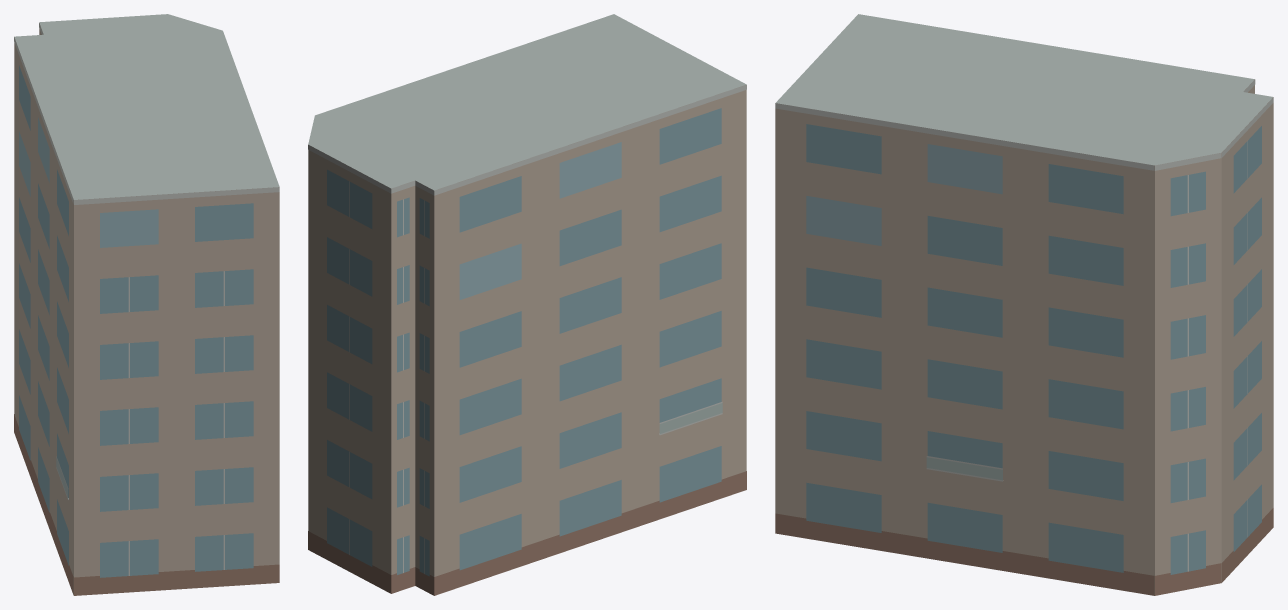
The model's file is survey-upis-32525001.glb.
The picture shows the model from 3 angles, left to right: view 1: azimuth 30°, elevation 25°; view 2: azimuth 150°, elevation 25°; view 3: azimuth 270°, elevation 25°; orthographic projection. The views are drawn at different scales.
Parts seen in each view (by area): view 1: survey-upis-32525001.tmp; view 2: survey-upis-32525001.tmp; view 3: survey-upis-32525001.tmp.
Part boxes in pixels (x1,y1,x2,y2): survey-upis-32525001.tmp: (14,14,279,595); survey-upis-32525001.tmp: (308,14,746,595); survey-upis-32525001.tmp: (775,14,1273,595).
Bounding box in the file's own units: 14.42 × 19.1 × 20.04.
